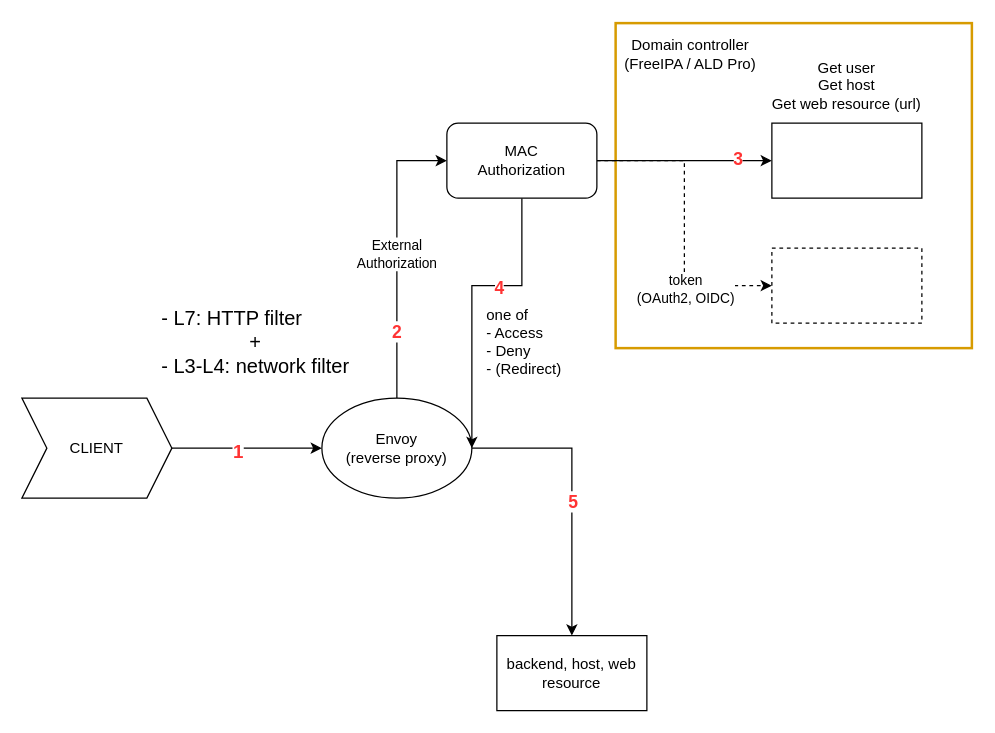
Image size: 995x733. Some labels were removed from this diagram. The shapes that lost their labels are listed below. From the top down, each one's centre as x and y in pixels, then its label:
At point (846, 160): "LDAP".
At point (846, 285): "Keycloak".
